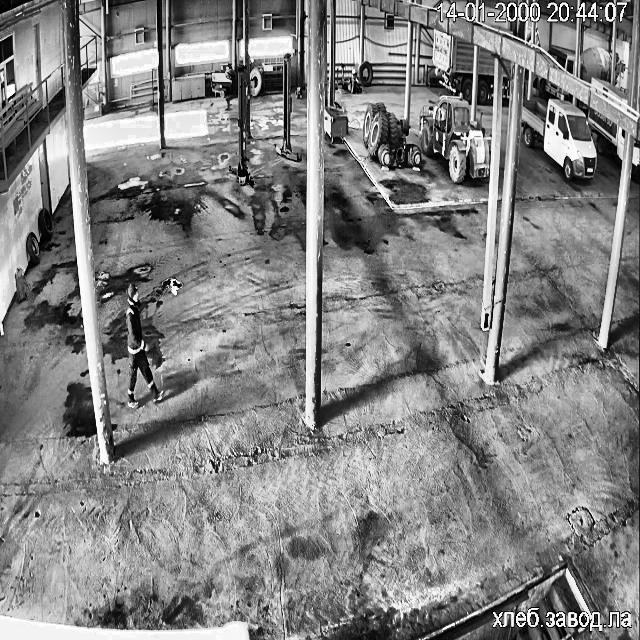car lift: (229, 66, 252, 185), (275, 52, 300, 161)
fire extinguisher: (16, 268, 24, 300)
mechanic: (126, 284, 162, 407)
tractor: (420, 96, 489, 182), (363, 102, 420, 166)
truck: (522, 100, 596, 180), (432, 28, 472, 100), (588, 108, 624, 158), (580, 45, 611, 81), (477, 48, 494, 102), (592, 78, 628, 102), (548, 45, 575, 73), (536, 77, 567, 100), (632, 140, 640, 179), (500, 77, 508, 97), (616, 55, 620, 76), (504, 60, 510, 74)
